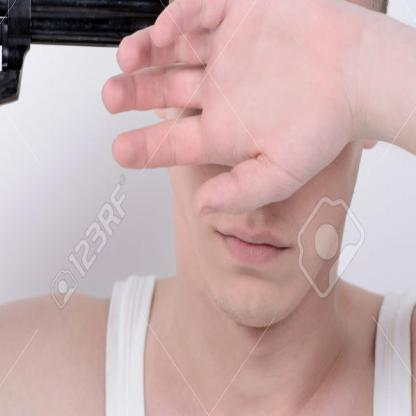gun: (0, 0, 173, 276)
